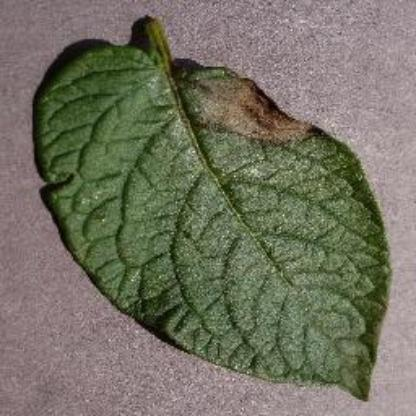Late-Blight: (26, 36, 412, 416)
